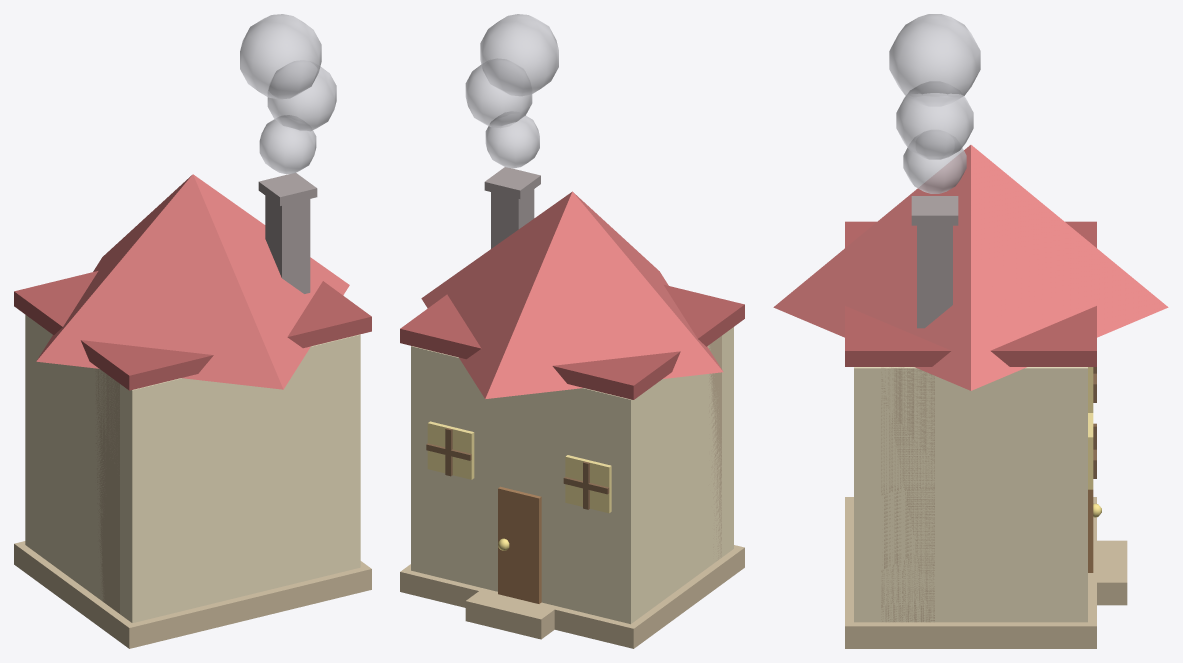
File: house_small.glb
The picture shows the model from 3 angles, left to right: view 1: azimuth 30°, elevation 25°; view 2: azimuth 150°, elevation 25°; view 3: azimuth 270°, elevation 25°; orthographic projection. The views are drawn at different scales.
Visible parts, largest first — view 1: body, roof_main, roof_skirting, base_foundation, smoke3, body_shadow, smoke2, chimney, smoke1, chimney_top; view 2: body, roof_main, roof_skirting, base_foundation, smoke3, door, smoke2, base_step, smoke1, window_r, window_l, chimney (+2 smaller); view 3: body, roof_main, roof_skirting, base_foundation, body_shadow, smoke3, smoke2, chimney, smoke1, base_step, chimney_top.
Boxes of the visible parts, x1,y1,x2,y2 form: body: [25, 315, 360, 623]; roof_main: [36, 174, 349, 389]; roof_skirting: [14, 271, 371, 390]; base_foundation: [14, 541, 371, 648]; smoke3: [240, 14, 321, 99]; body_shadow: [95, 369, 119, 613]; smoke2: [267, 60, 336, 132]; chimney: [265, 195, 310, 293]; smoke1: [259, 115, 316, 174]; chimney_top: [258, 173, 317, 205]; body: [411, 327, 733, 624]; roof_main: [421, 191, 723, 398]; roof_skirting: [400, 285, 744, 399]; base_foundation: [400, 545, 744, 648]; smoke3: [480, 14, 558, 96]; door: [498, 486, 541, 603]; smoke2: [465, 58, 532, 127]; base_step: [465, 591, 554, 639]; smoke1: [485, 111, 539, 168]; window_r: [427, 421, 474, 479]; window_l: [565, 455, 611, 513]; chimney: [491, 189, 534, 248]; body: [854, 367, 1087, 622]; roof_main: [773, 145, 1168, 390]; roof_skirting: [845, 221, 1096, 366]; base_foundation: [845, 497, 1096, 648]; body_shadow: [881, 367, 934, 622]; smoke3: [889, 14, 980, 106]; smoke2: [896, 81, 973, 159]; chimney: [917, 225, 952, 328]; smoke1: [903, 130, 966, 193]; base_step: [1095, 540, 1127, 605]; chimney_top: [911, 196, 958, 225].
Bounding box in the file's own units: 2.2 × 3.71 × 2.2.
